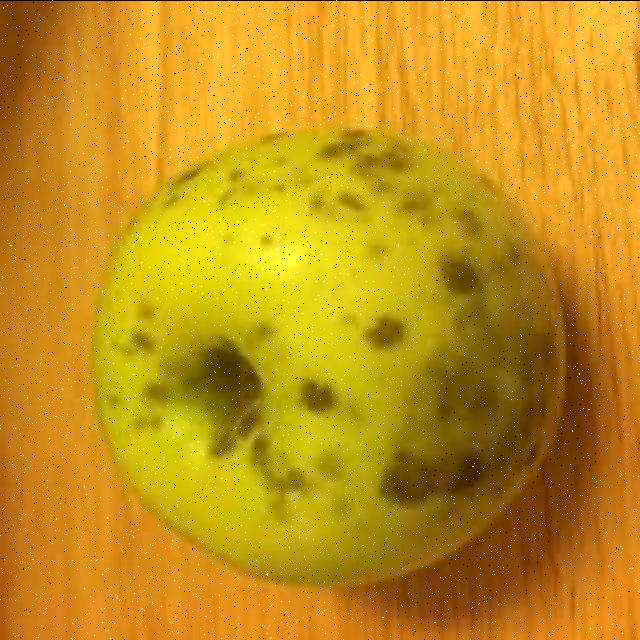BLOTCH: (74, 121, 562, 590)
